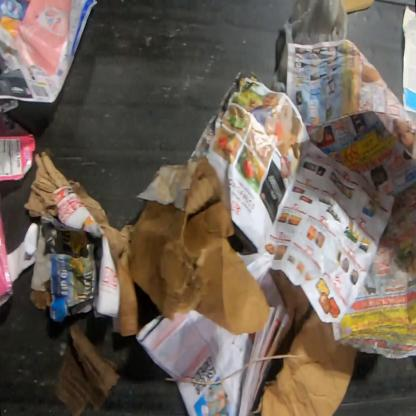cardboard: (25, 151, 270, 336), (260, 309, 357, 415), (54, 323, 121, 414), (0, 113, 35, 182)
soft_plastic: (274, 0, 348, 92), (0, 212, 15, 310)
